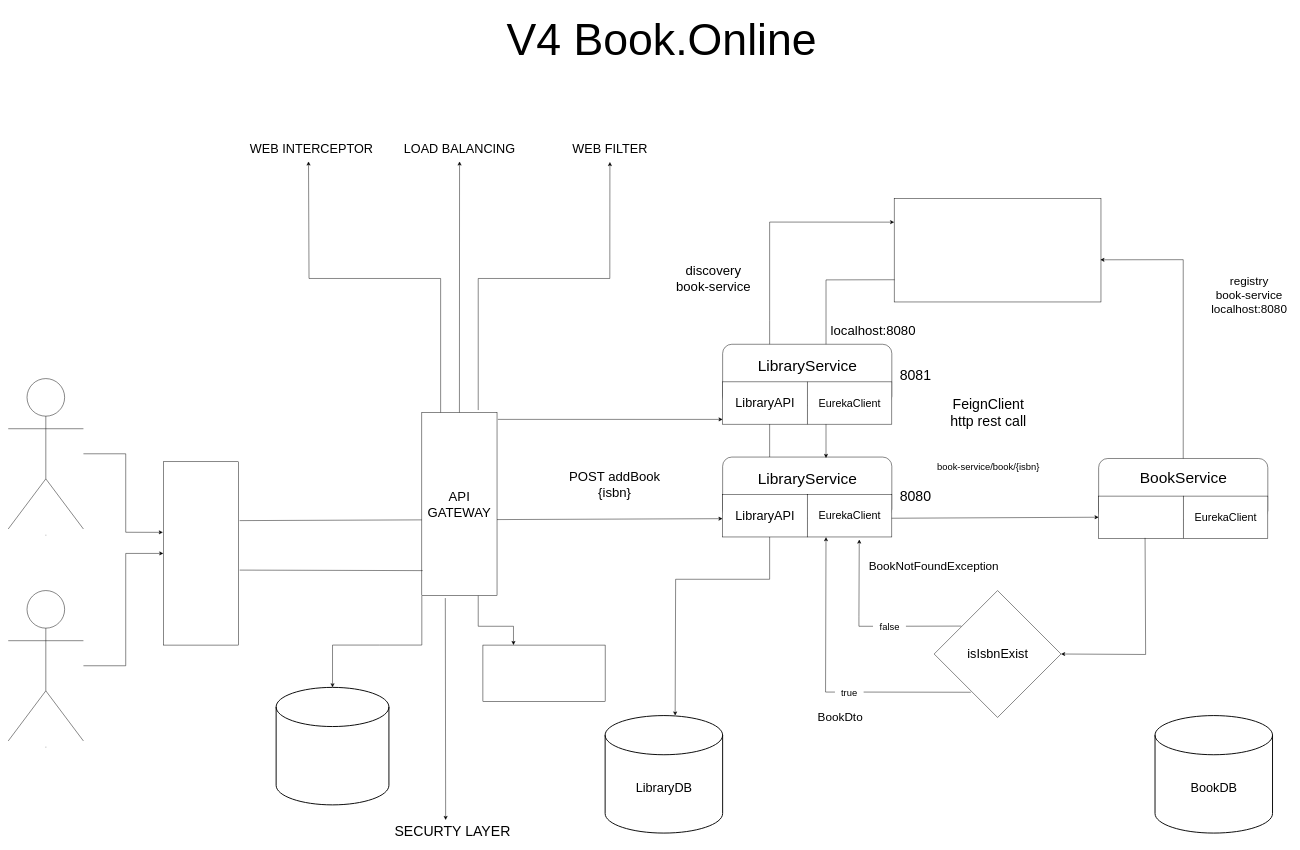
This 1300x850 diagram has some shape labels left out. Each missing label, with the centre of its shape:
"AUTH SERVER" belongs at pixel 543 673.
"BookAPI" belongs at pixel 1140 517.
"EurekaServer" belongs at pixel 997 250.
"USERDB" belongs at pixel 332 746.
"WebUI Mobile" belongs at pixel 201 553.
